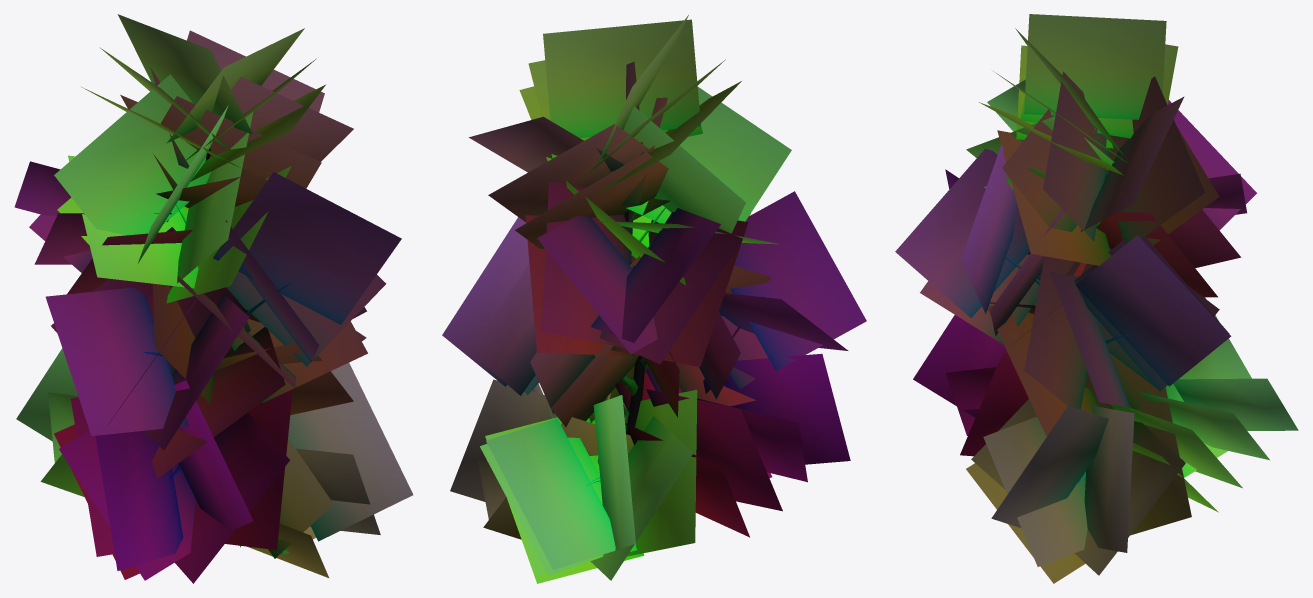
The model's file is URP_P15_Tree_3_LOD_0.fbx.
The picture shows the model from 3 angles, left to right: view 1: azimuth 30°, elevation 25°; view 2: azimuth 150°, elevation 25°; view 3: azimuth 270°, elevation 25°; orthographic projection. The views are drawn at different scales.
Visible parts, largest first — view 1: Tree_3_LOD_0; view 2: Tree_3_LOD_0; view 3: Tree_3_LOD_0.
Boxes of the visible parts, x1,y1,x2,y2 form: Tree_3_LOD_0: (14,14,413,583); Tree_3_LOD_0: (442,15,866,583); Tree_3_LOD_0: (895,14,1298,583).
Size of the model in its own units: 475 by 761 by 544.
